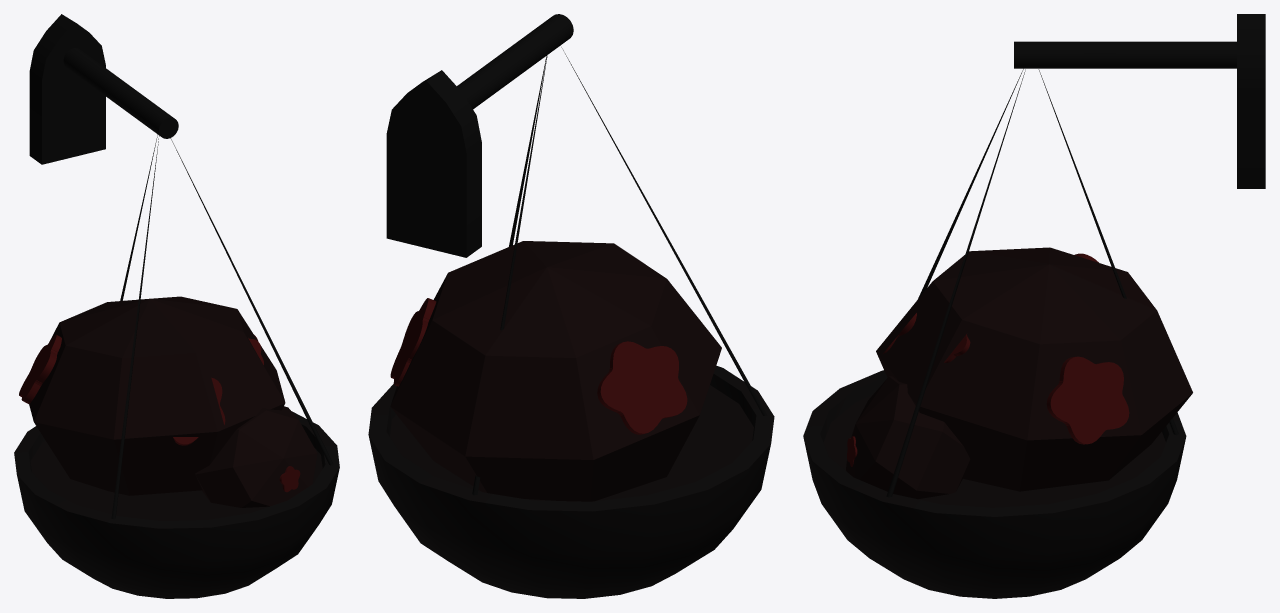
File: hanging planter.fbx
3 renders of one model, left to right at view 1: azimuth 30°, elevation 25°; view 2: azimuth 150°, elevation 25°; view 3: azimuth 270°, elevation 25°, orthographic. The views are drawn at different scales.
Visible parts, largest first — view 1: Sphere064, Sphere063, Box1868, Sphere065, Cylinder415, Cylinder416, Star003, Cylinder418, Cylinder417; view 2: Sphere064, Sphere063, Box1868, Cylinder415, Star003, Cylinder416, Star002, Cylinder418, Cylinder419; view 3: Sphere064, Sphere063, Sphere065, Cylinder416, Cylinder415, Star002, Box1868, Cylinder417, Cylinder419, Cylinder418.
Boxes of the visible parts, <box> form: Sphere064: <box>29,296,285,495</box>; Sphere063: <box>14,411,339,598</box>; Box1868: <box>29,14,105,164</box>; Sphere065: <box>195,406,317,507</box>; Cylinder415: <box>30,440,322,520</box>; Cylinder416: <box>63,48,178,138</box>; Star003: <box>19,334,61,403</box>; Cylinder418: <box>111,136,159,519</box>; Cylinder417: <box>170,138,333,465</box>; Sphere064: <box>390,241,721,501</box>; Sphere063: <box>368,365,774,598</box>; Box1868: <box>386,70,481,257</box>; Cylinder415: <box>390,385,753,501</box>; Star003: <box>597,341,687,434</box>; Cylinder416: <box>457,14,573,109</box>; Star002: <box>390,298,436,386</box>; Cylinder418: <box>561,47,767,415</box>; Cylinder419: <box>472,55,547,495</box>; Sphere064: <box>876,247,1192,491</box>; Sphere063: <box>803,370,1186,598</box>; Sphere065: <box>846,376,970,499</box>; Cylinder416: <box>1014,41,1236,68</box>; Cylinder415: <box>823,395,1165,507</box>; Star002: <box>1046,356,1129,444</box>; Box1868: <box>1237,14,1265,188</box>; Cylinder417: <box>886,69,1025,497</box>; Cylinder419: <box>1038,69,1178,434</box>; Cylinder418: <box>918,69,1023,298</box>.
Size of the model in its own units: 13.29 by 21.62 by 16.04.
